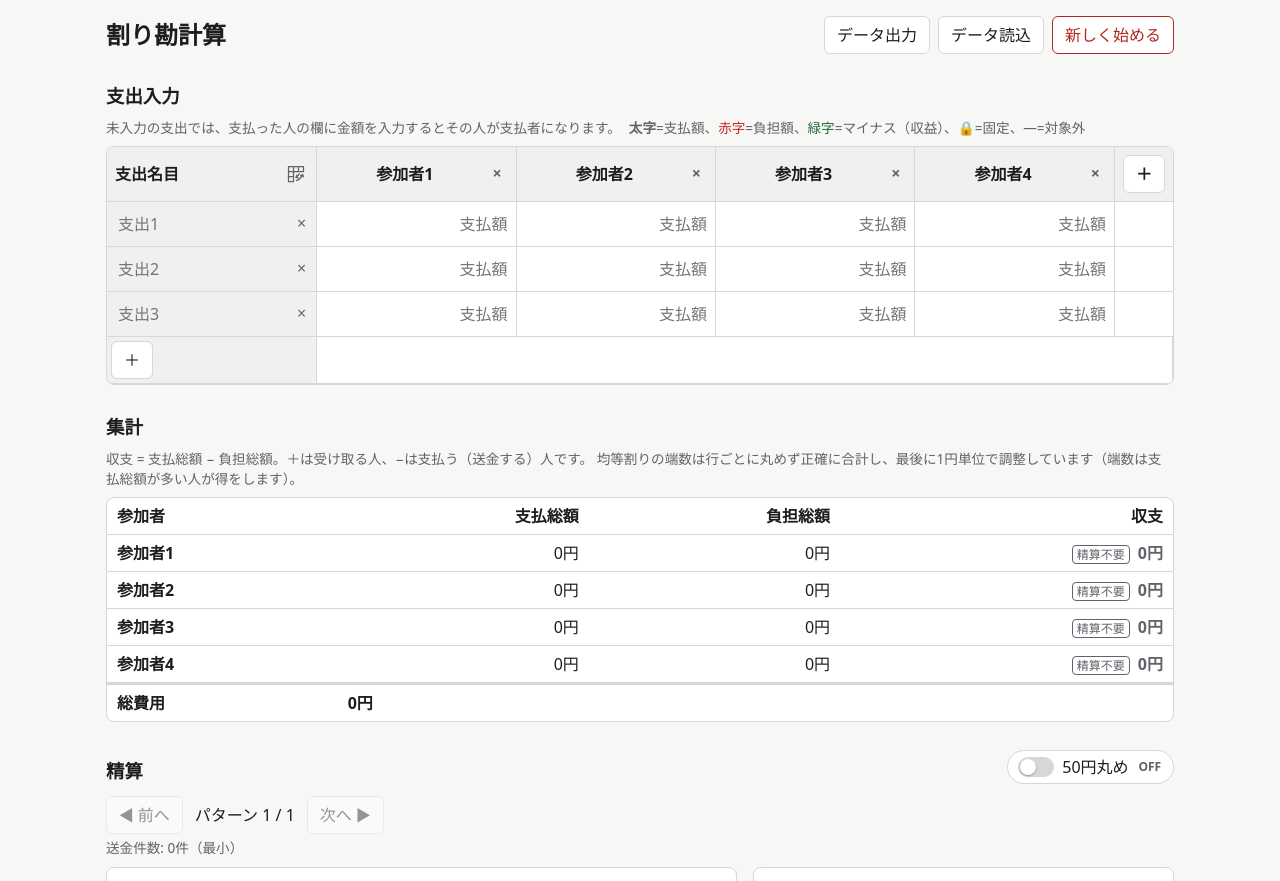
App › 集計に支払者に関係なく総費用を表示する
In the 1st field with placeholder "支払額": {"x": 416, "y": 224} [317,202,516,246], type "1000"
Then press Enter
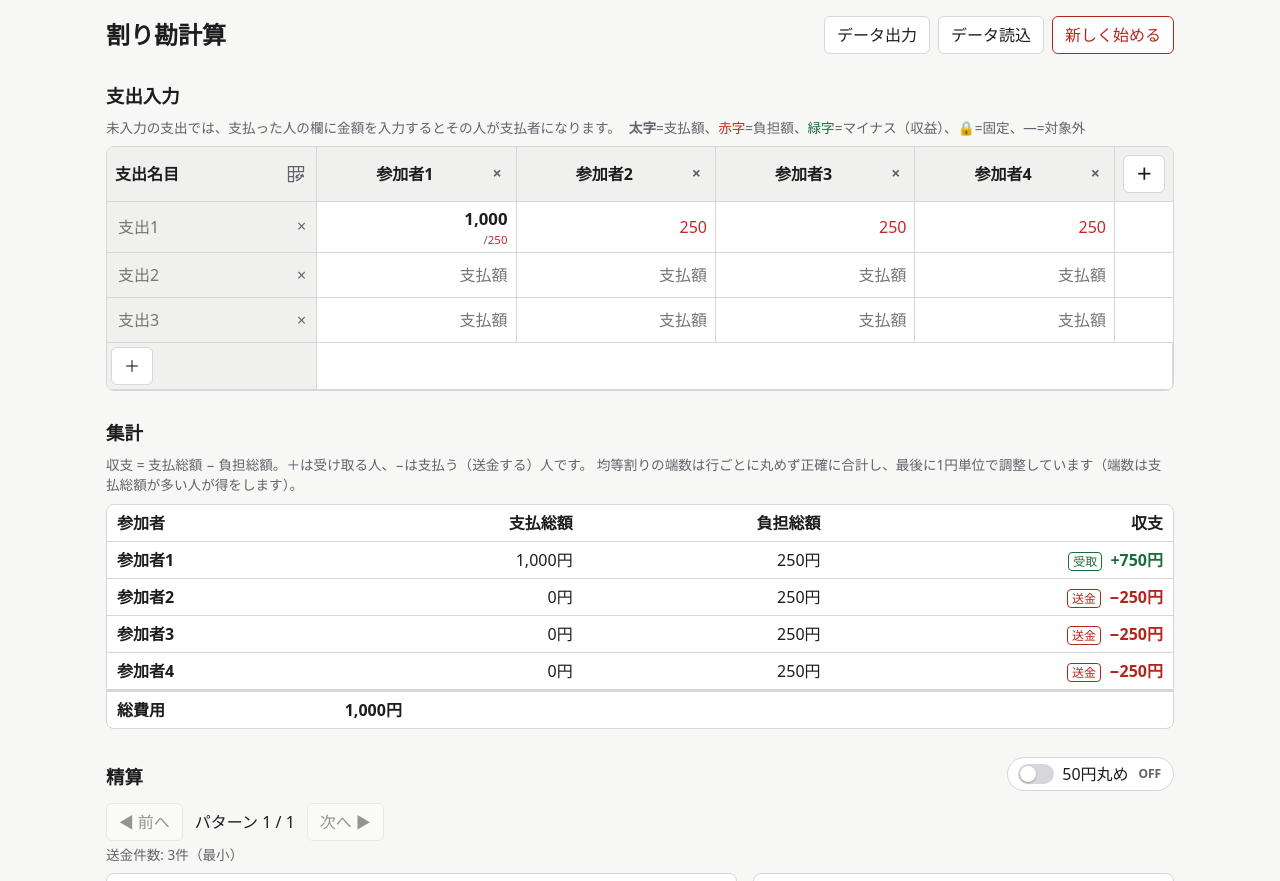
In the 2nd field with placeholder "支払額": {"x": 616, "y": 276} [516,254,715,298], type "2500"
Then press Enter
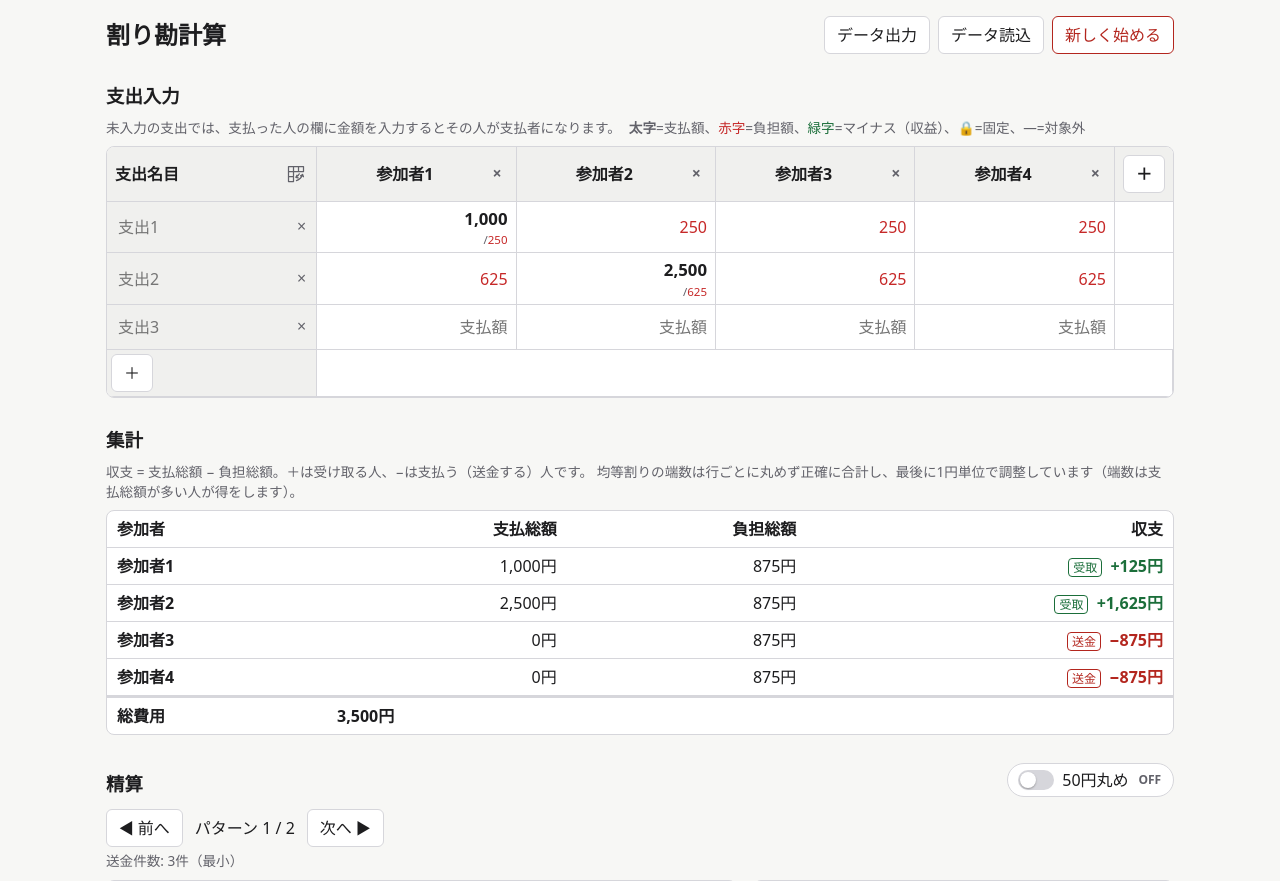
Now the row "総費用 3,500円" is shown, box [107,696,1173,734]
